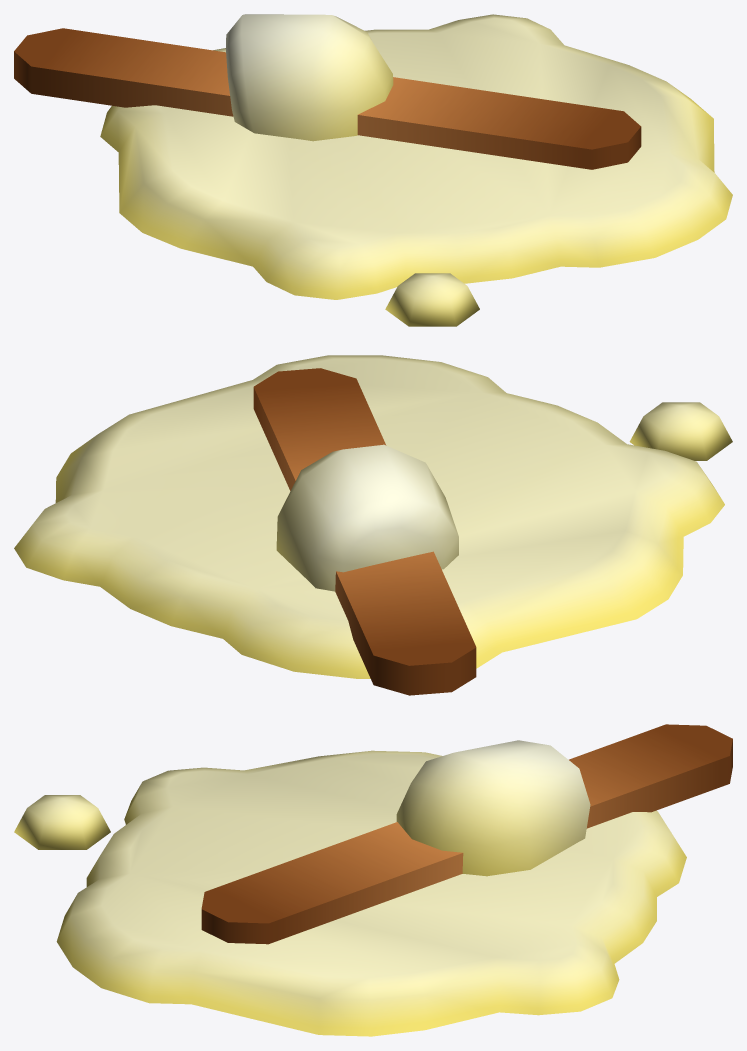
File: m_SpilledPopsicle02.fbx
3 views of the same model, one above another, from view 1: azimuth 30°, elevation 25°; view 2: azimuth 150°, elevation 25°; view 3: azimuth 270°, elevation 25° (orthographic). The views are drawn at different scales.
Visible parts, largest first — view 1: m_SpilledPopsicle02; view 2: m_SpilledPopsicle02; view 3: m_SpilledPopsicle02.
Boxes of the visible parts, <box> form: m_SpilledPopsicle02: <box>14,14,732,326</box>; m_SpilledPopsicle02: <box>14,355,732,695</box>; m_SpilledPopsicle02: <box>14,724,732,1036</box>.
Bounding box in the file's own units: 12.21 × 2.52 × 13.54.
